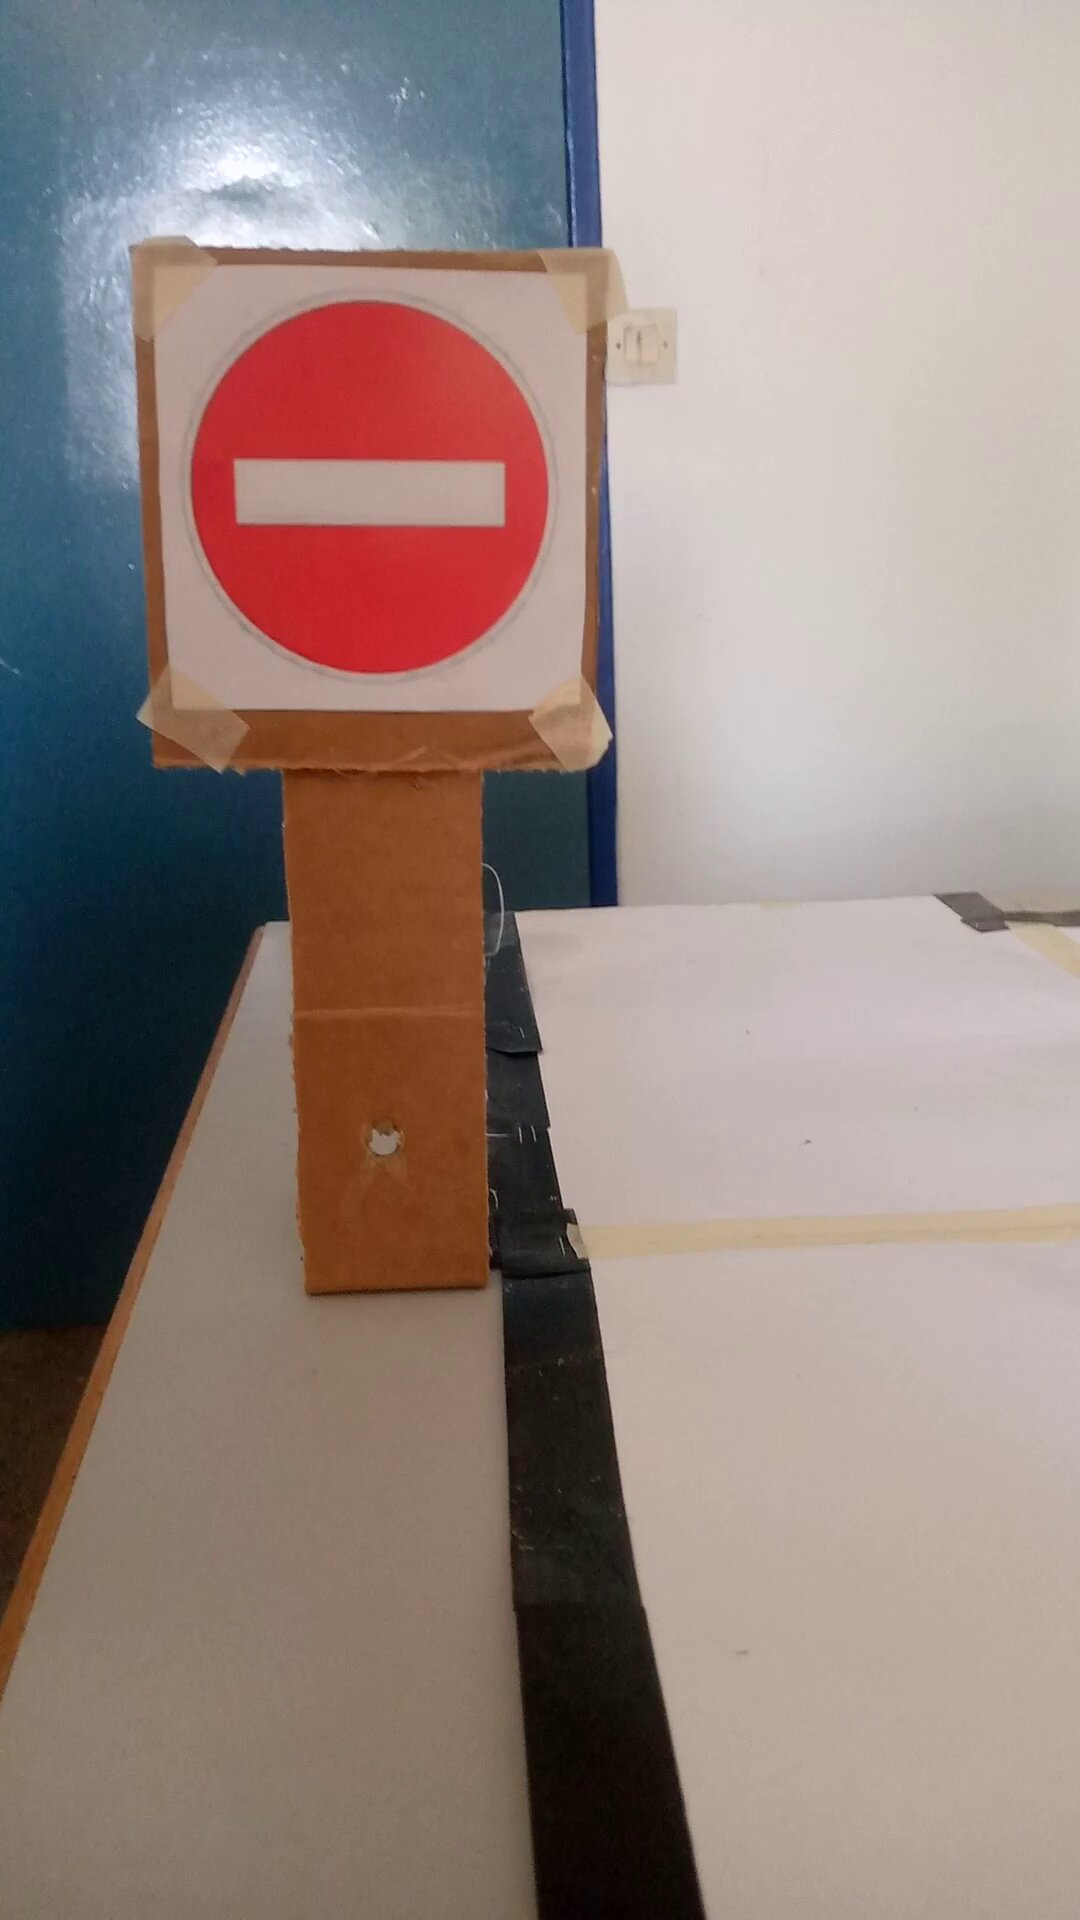panel010: (133, 257, 587, 727)
